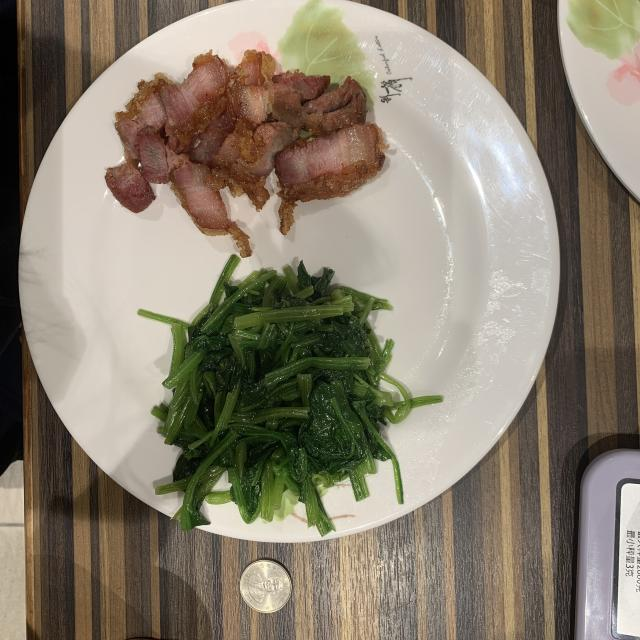coin: (240, 559, 292, 612)
mustard greens: (140, 255, 442, 535)
red grilled pork: (106, 50, 385, 256)
